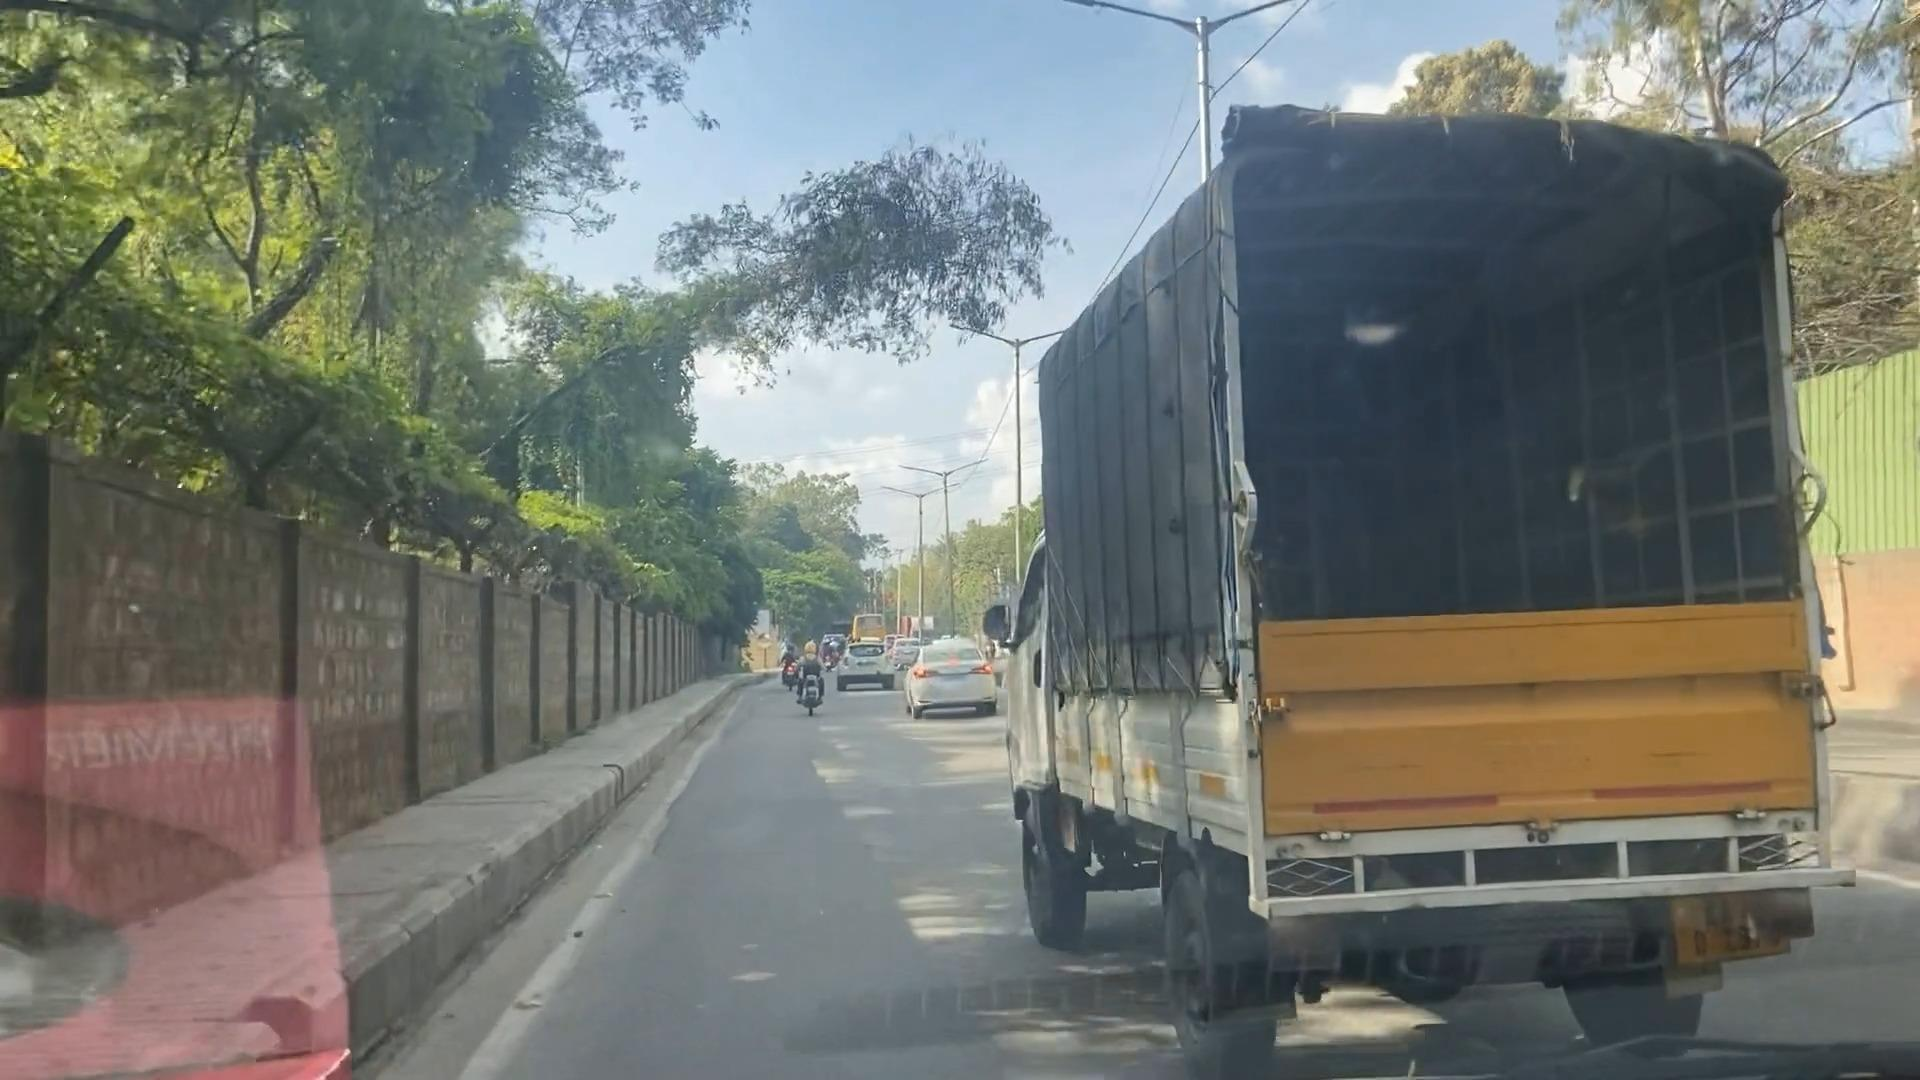HMV: (997, 117, 1846, 1080)
